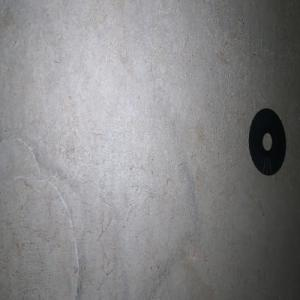Washer: (248, 107, 286, 175)
